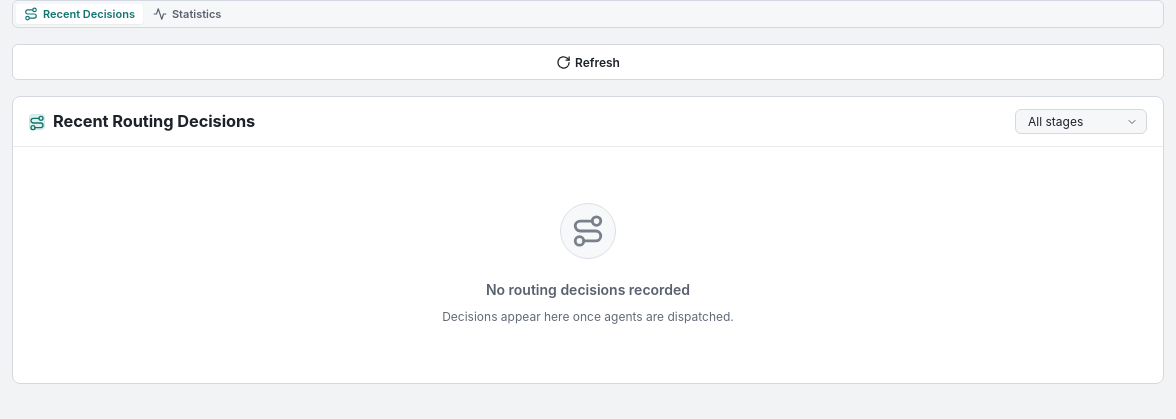
Test case: RoutingRules.vue › switches to stats tab and shows empty state when no stats data
Click the radio button with class "segmented__item" showing "Statistics". click: (187, 14)
box: [145, 4, 229, 24]
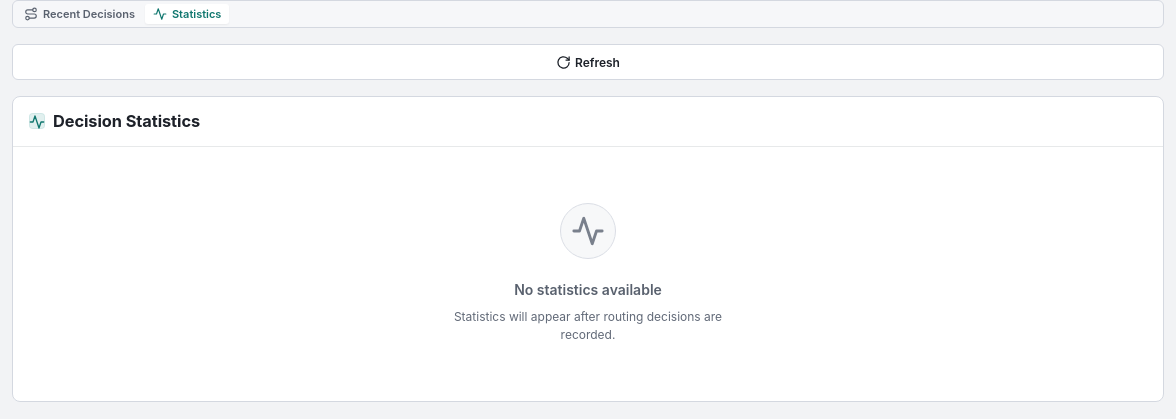
Result: the text "No statistics available" is shown at [514, 279, 662, 300]
